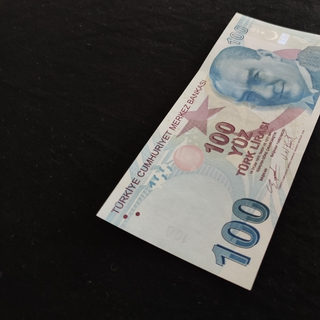100TLFront: (96, 12, 320, 291)
